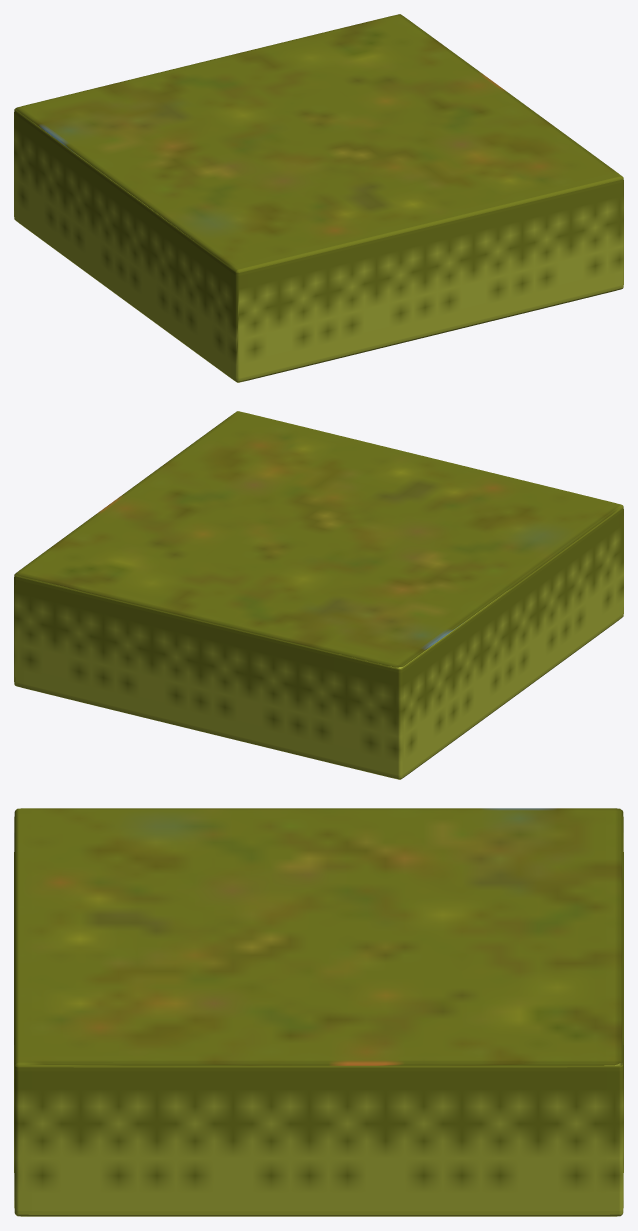
Rendered from PixelTileFlower.fbx.
3 renders of one model, top to bottom at view 1: azimuth 30°, elevation 25°; view 2: azimuth 150°, elevation 25°; view 3: azimuth 270°, elevation 25°, orthographic. The views are drawn at different scales.
Visible parts, largest first — view 1: PixelBasic; view 2: PixelBasic; view 3: PixelBasic.
Boxes of the visible parts, x1,y1,x2,y2 form: PixelBasic: (14, 14, 623, 382); PixelBasic: (14, 411, 623, 779); PixelBasic: (14, 808, 623, 1216).
Bounding box in the file's own units: 99.99 × 28.04 × 99.99.
1 material, 1 textured.
